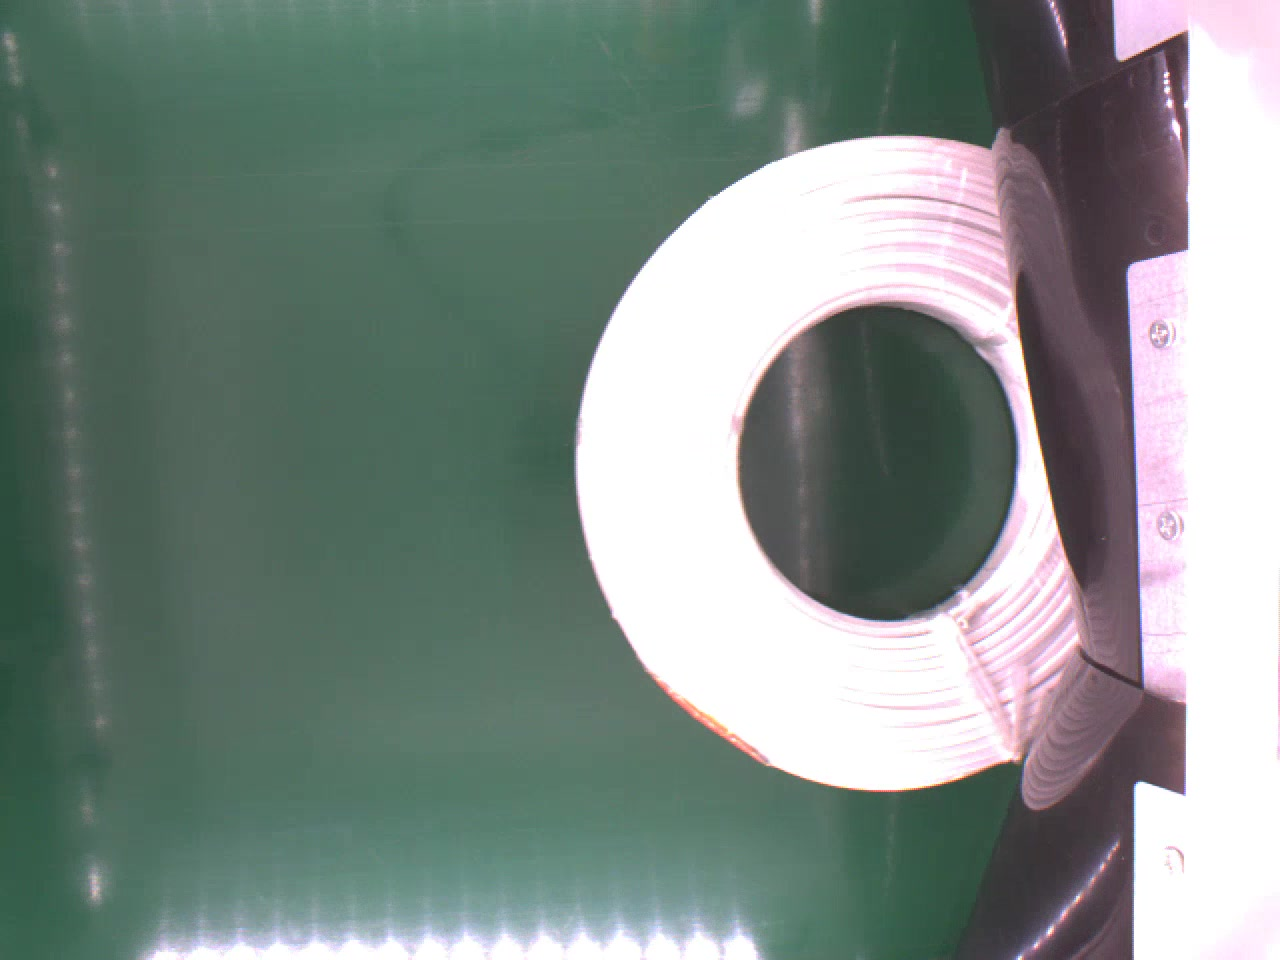white: (570, 134, 1082, 790)
